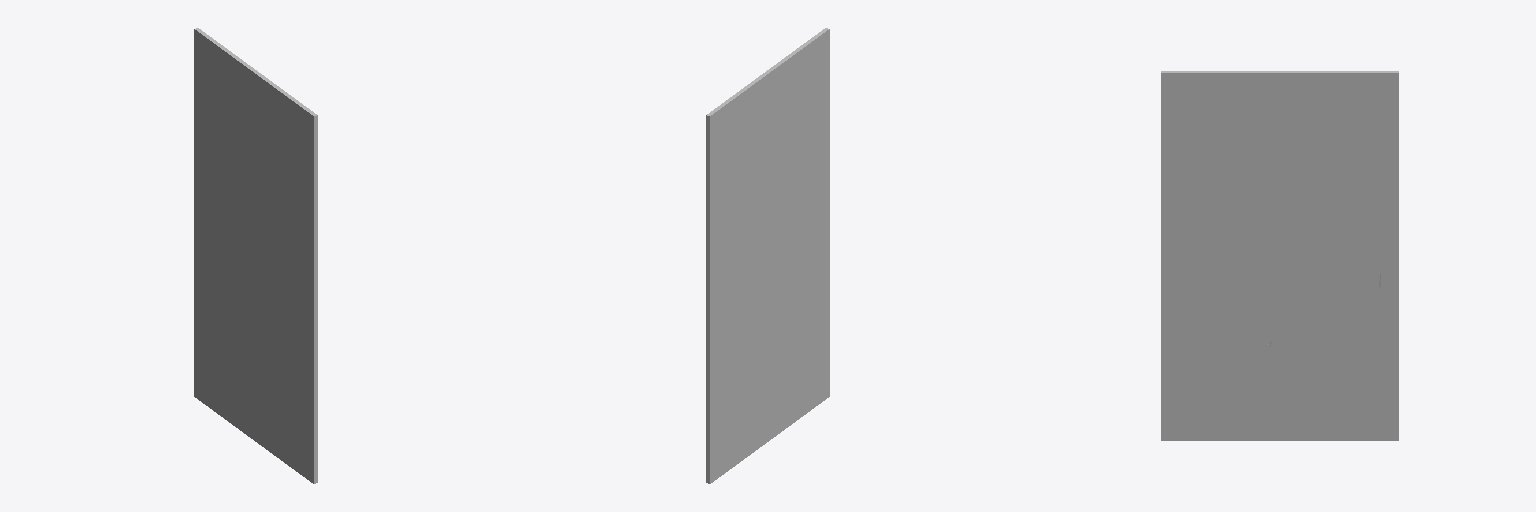
The picture shows the model from 3 angles: view 1: azimuth 30°, elevation 25°; view 2: azimuth 150°, elevation 25°; view 3: azimuth 270°, elevation 25°; orthographic projection.
Parts seen in each view (by area): view 1: back8_zoetrope.412; view 2: back8_zoetrope.412; view 3: back8_zoetrope.412.
Part boxes in pixels (x1,y1,x2,y2): back8_zoetrope.412: (194, 28, 317, 483); back8_zoetrope.412: (706, 28, 829, 483); back8_zoetrope.412: (1161, 71, 1398, 440).
Bounding box in the file's own units: 0.0109 × 0.9246 × 0.5439.